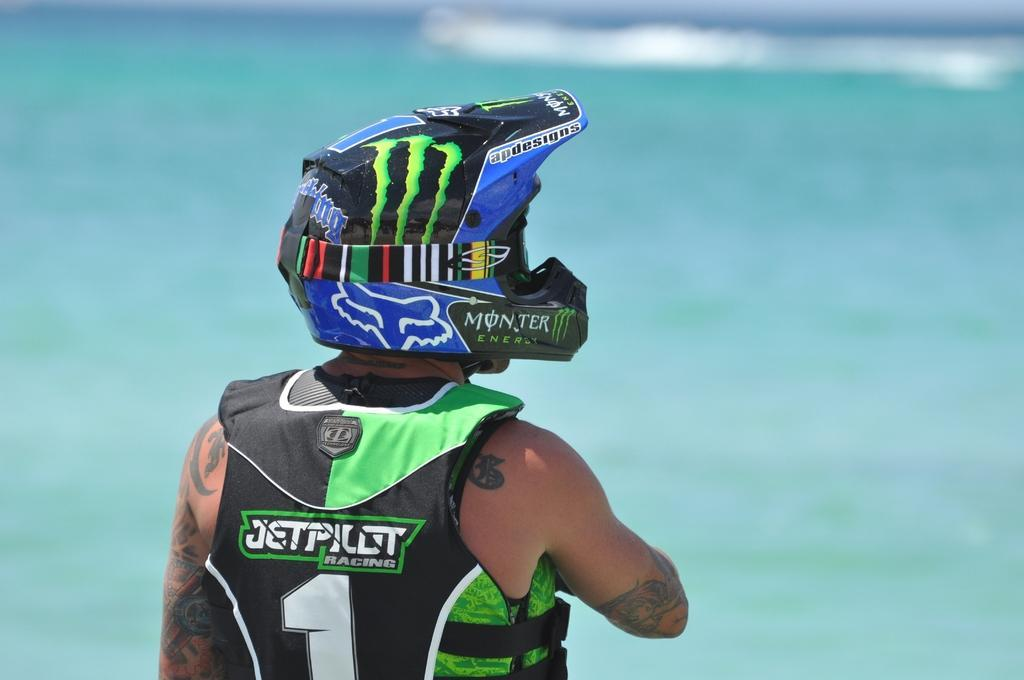helmet: (275, 85, 591, 364)
